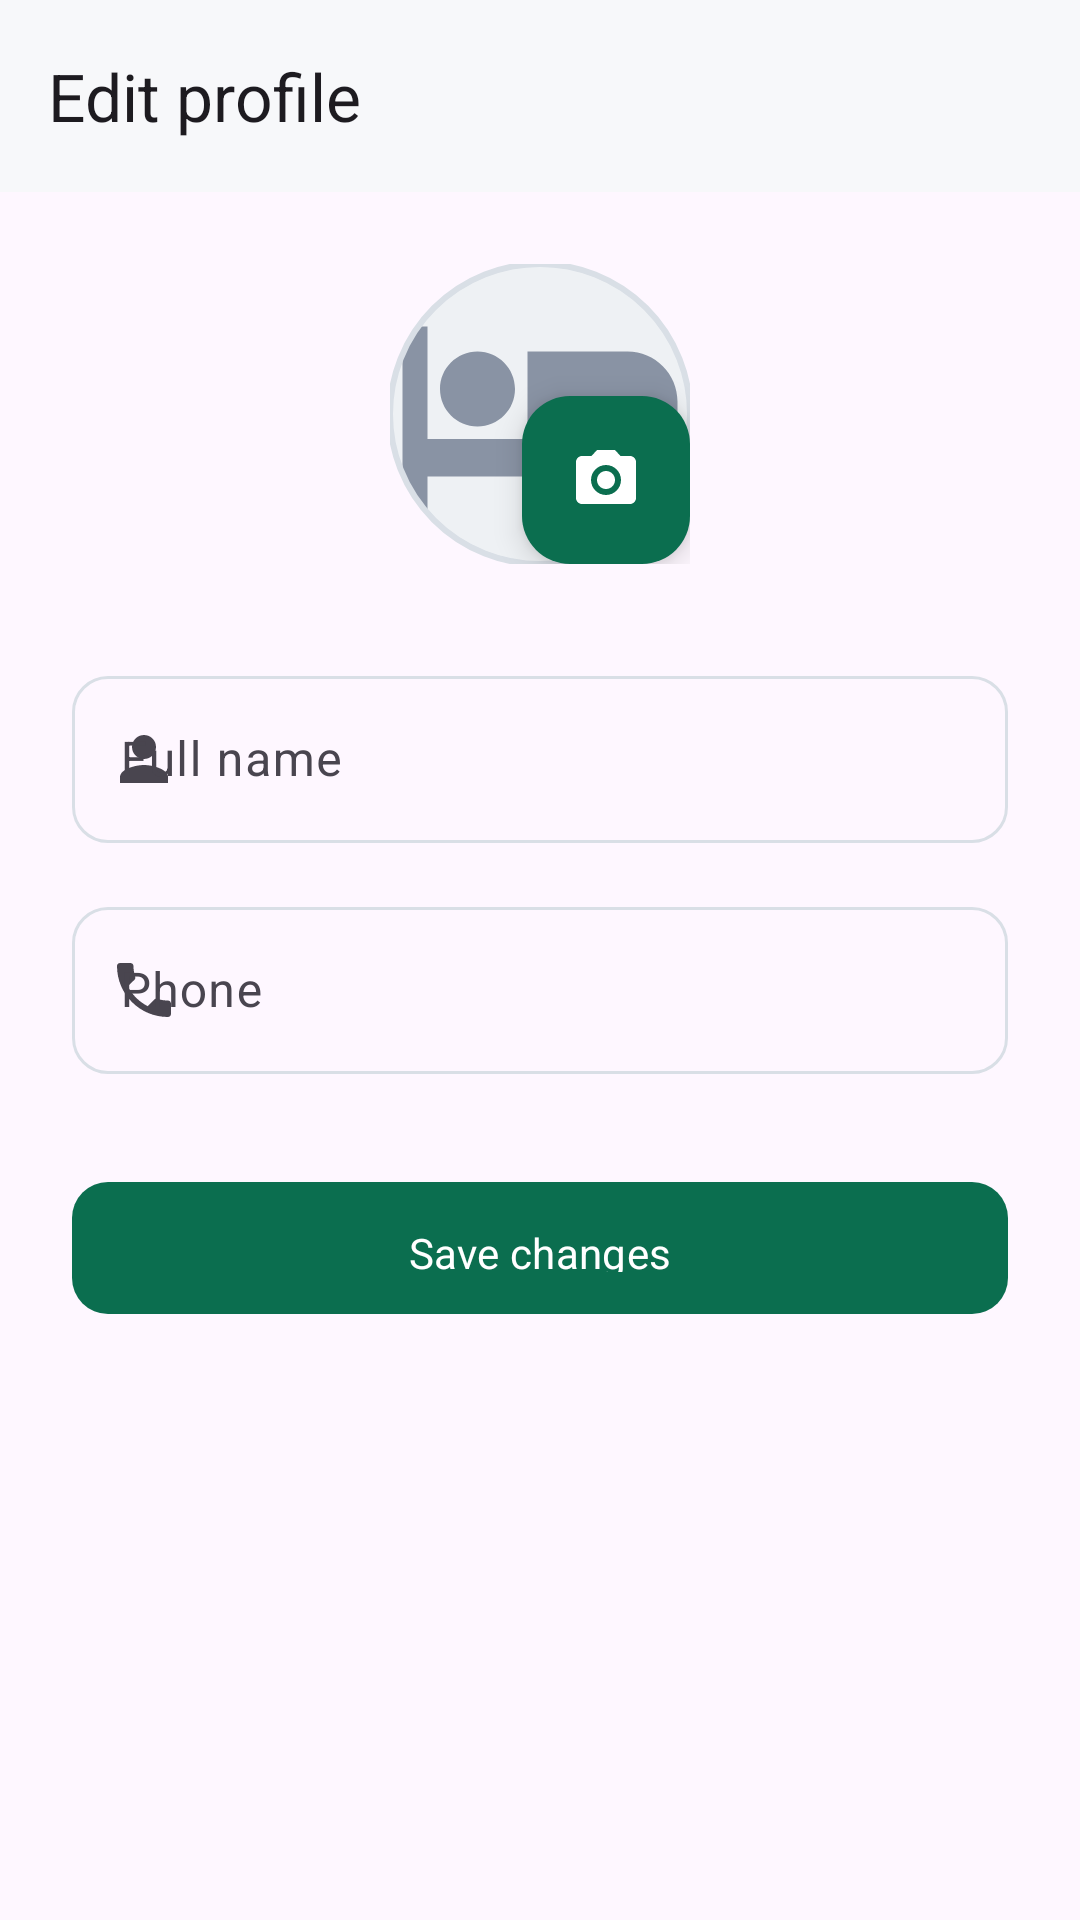

Point at icon controls on the screen. Image size 1080 × 1920, points as (x,y).
camera: (606,480)
